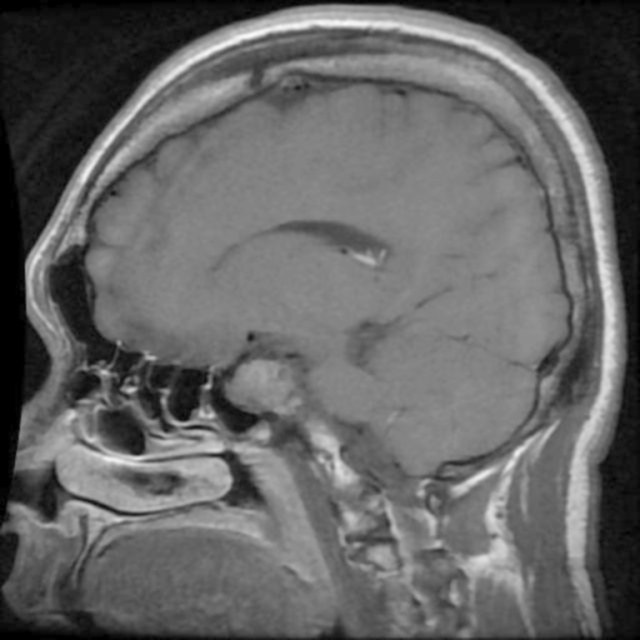no tumor: (229, 353, 301, 418)
